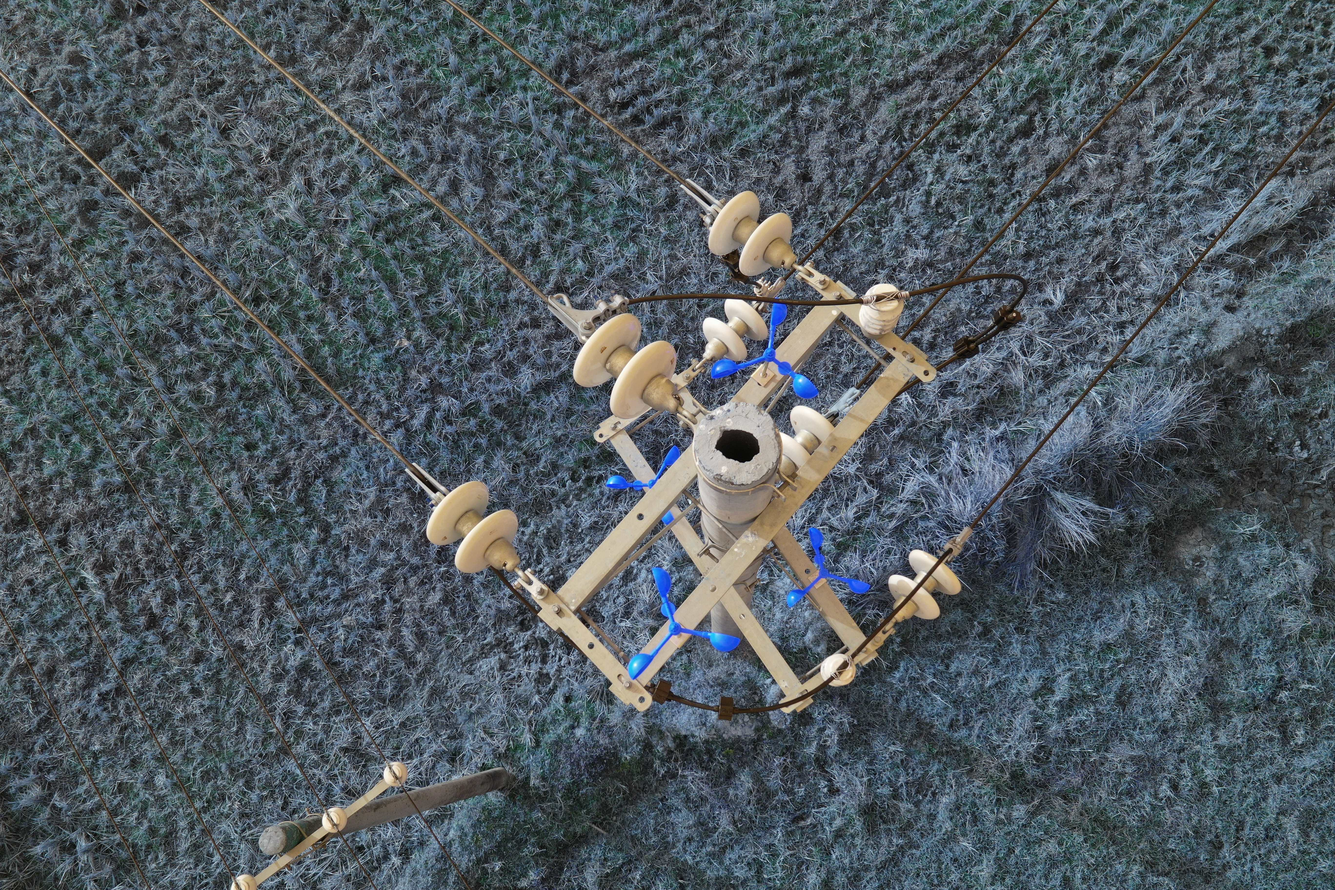severe_soiling_no_discharge_whole: (857, 280, 906, 337)
